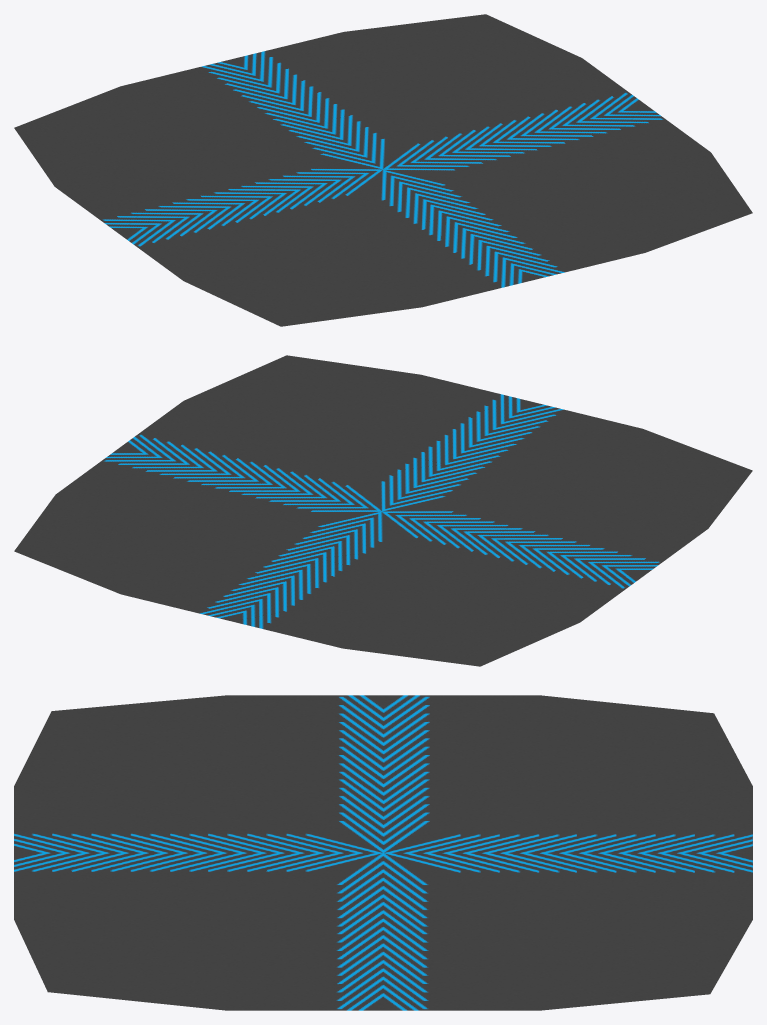
File: ArenaBottom.fbx
The picture shows the model from 3 angles, top to bottom: view 1: azimuth 30°, elevation 25°; view 2: azimuth 150°, elevation 25°; view 3: azimuth 270°, elevation 25°; orthographic projection. The views are drawn at different scales.
Parts seen in each view (by area): view 1: Plane; view 2: Plane; view 3: Plane.
Part boxes in pixels (x1,y1,x2,y2): Plane: [14, 14, 752, 326]; Plane: [14, 355, 752, 666]; Plane: [14, 695, 752, 1010].
Bounding box in the file's own units: 37.96 × 8.46e-06 × 37.62.
